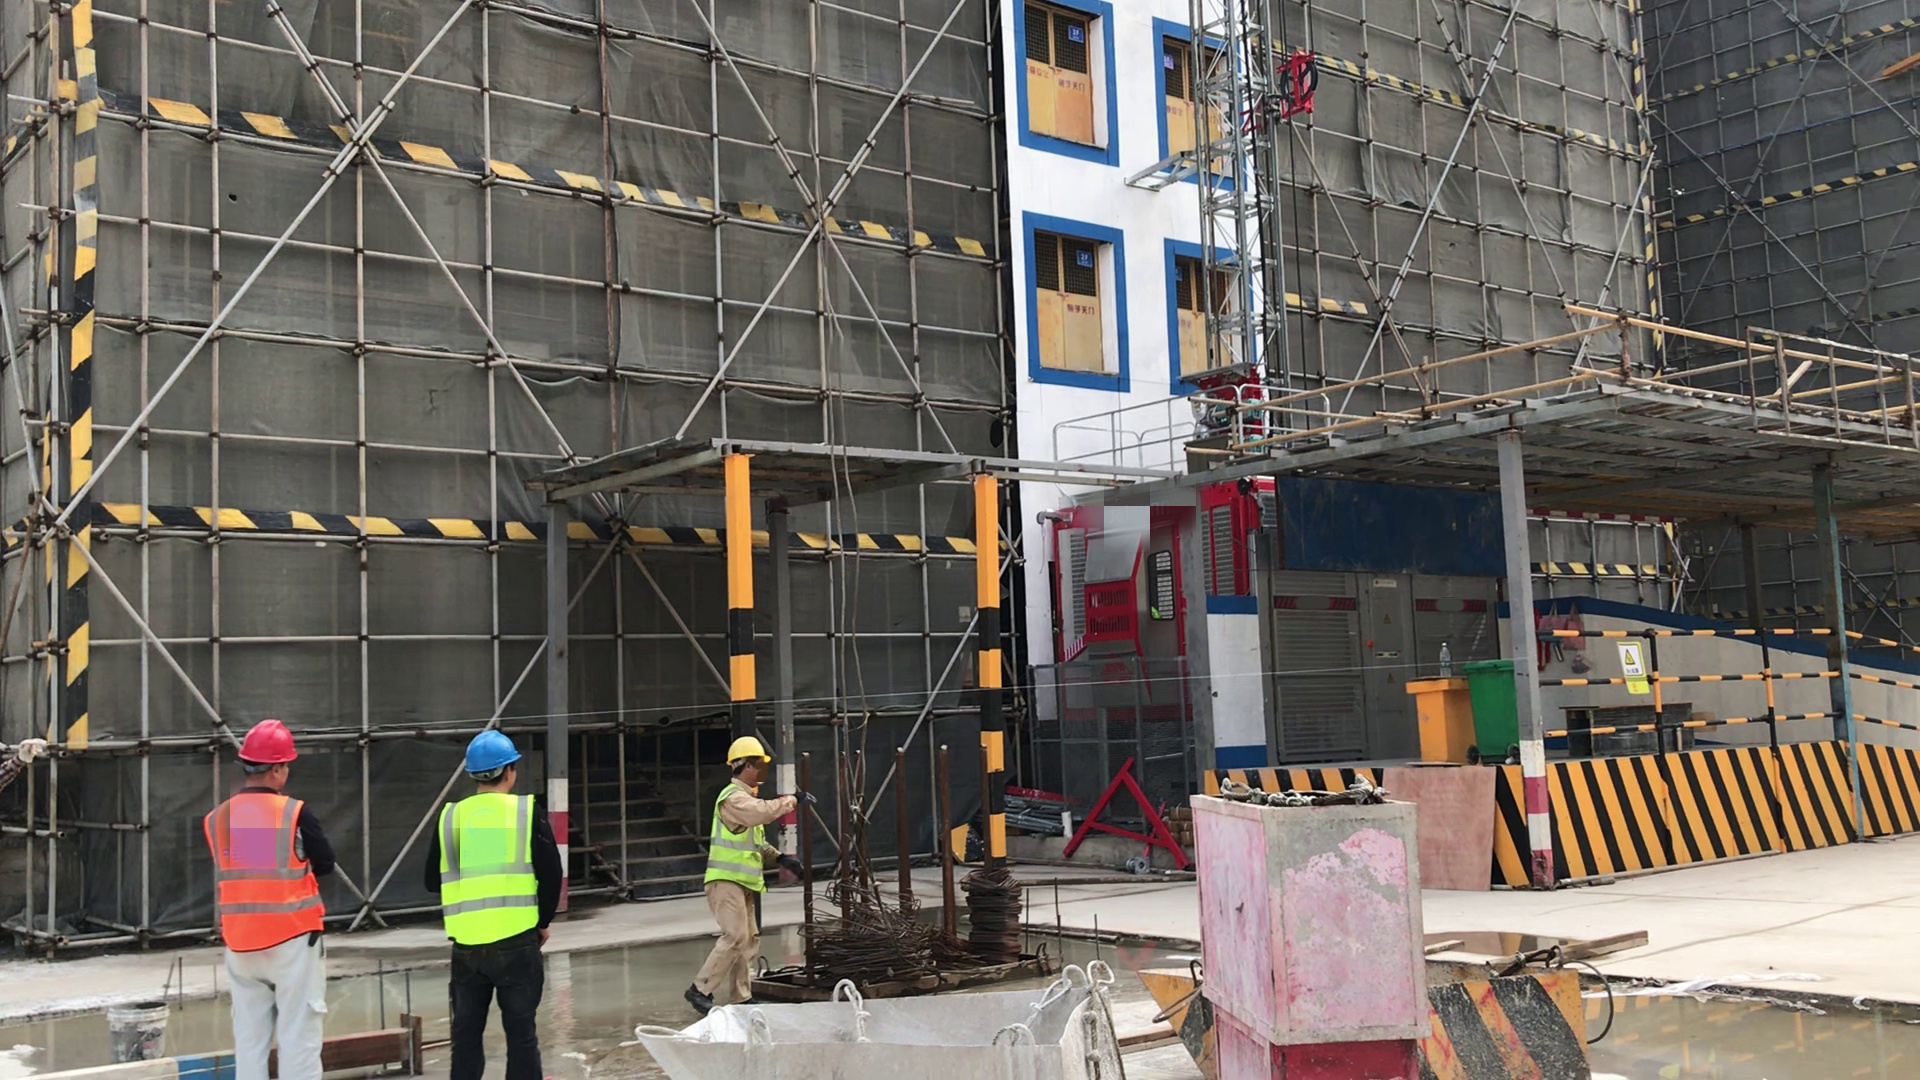fence: (1558, 615, 1920, 765)
helmet: (454, 727, 531, 775), (234, 720, 301, 771), (725, 733, 771, 771)
hopper: (641, 963, 1114, 1080)
person: (189, 714, 342, 1080), (419, 721, 573, 1080), (683, 729, 791, 1026)
slogan: (1151, 944, 1580, 1080), (1615, 632, 1668, 717)
vest: (203, 785, 334, 956), (438, 789, 546, 948), (704, 780, 772, 900)
